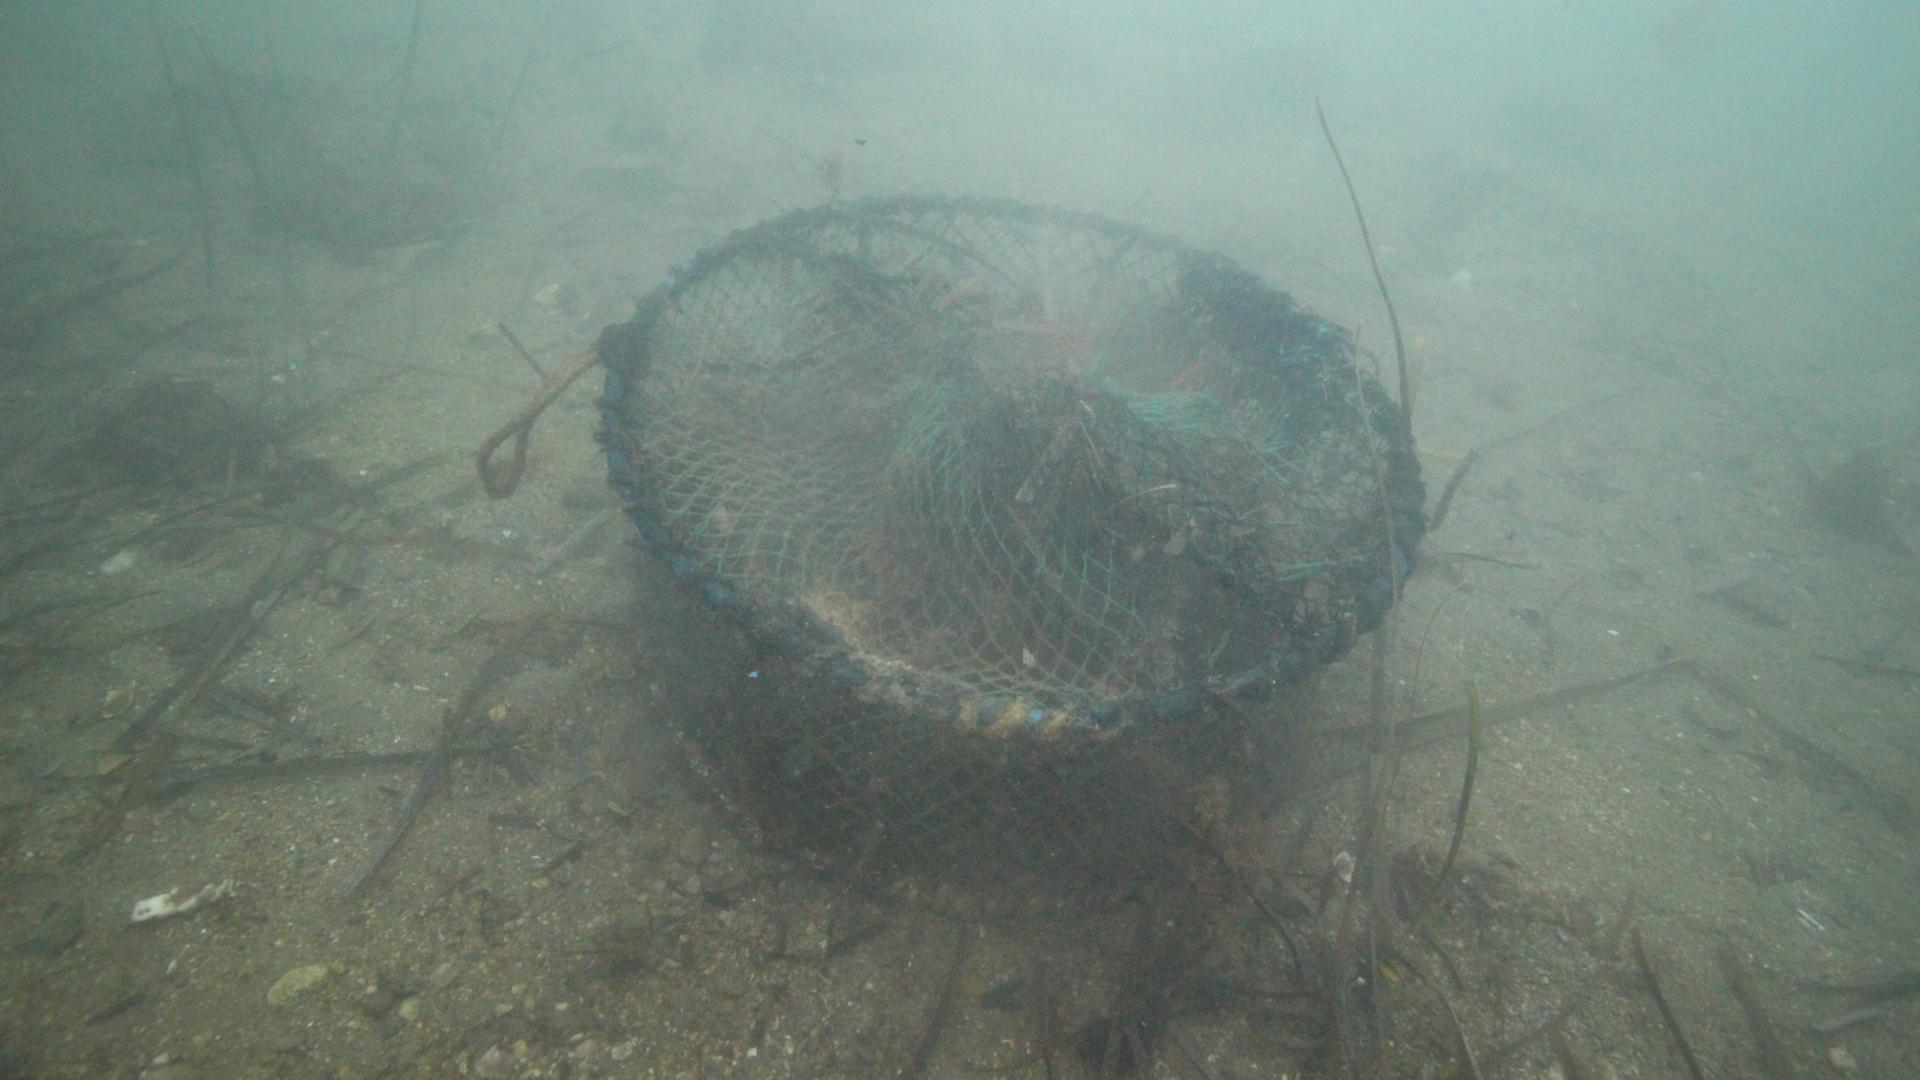circular fish trap: (591, 189, 1429, 918)
rope: (473, 338, 597, 498)
